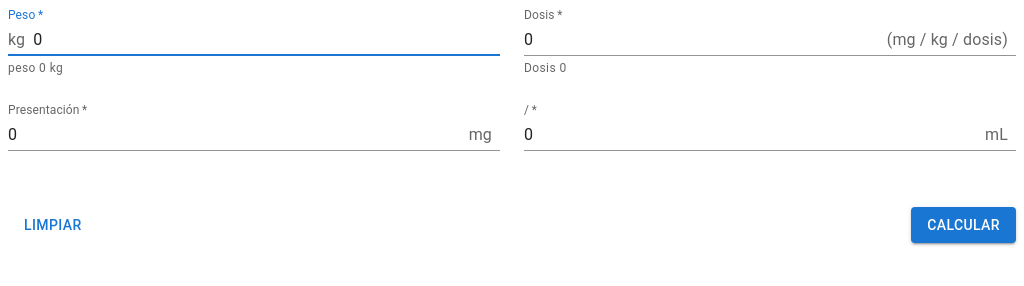
should show error if peso lower than 0.1
The image size is (1024, 286).
Replace the text in the number field with placeholder "Ingrese su peso" with "0.01": (267, 40) [33, 24, 500, 56]
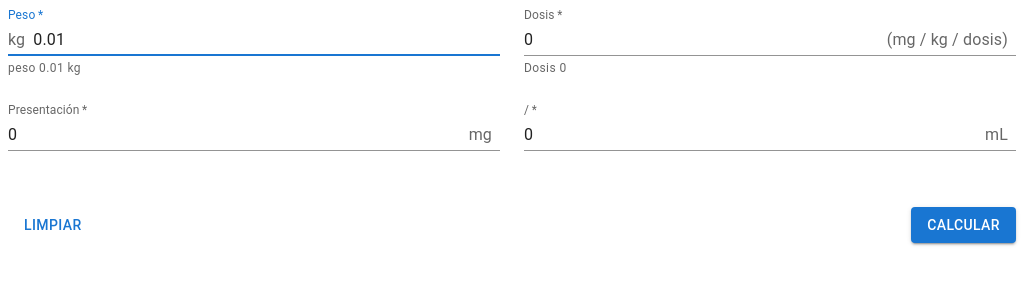
Click the button "Calcular": (964, 225) [911, 207, 1016, 243]
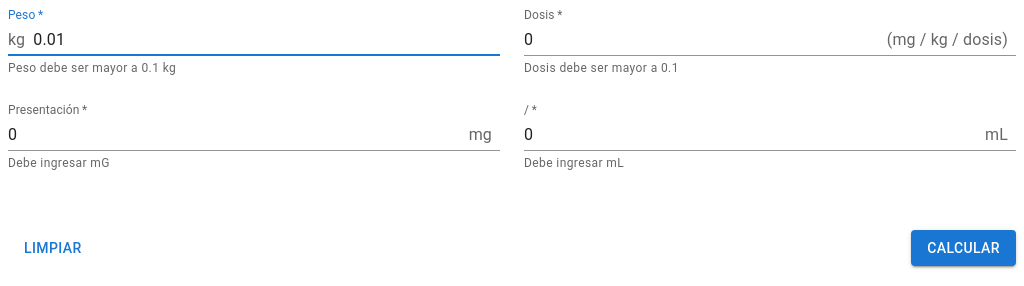
expect the text "Peso debe ser mayor a 0.1 kg" is shown: met, box [8, 61, 176, 75]
